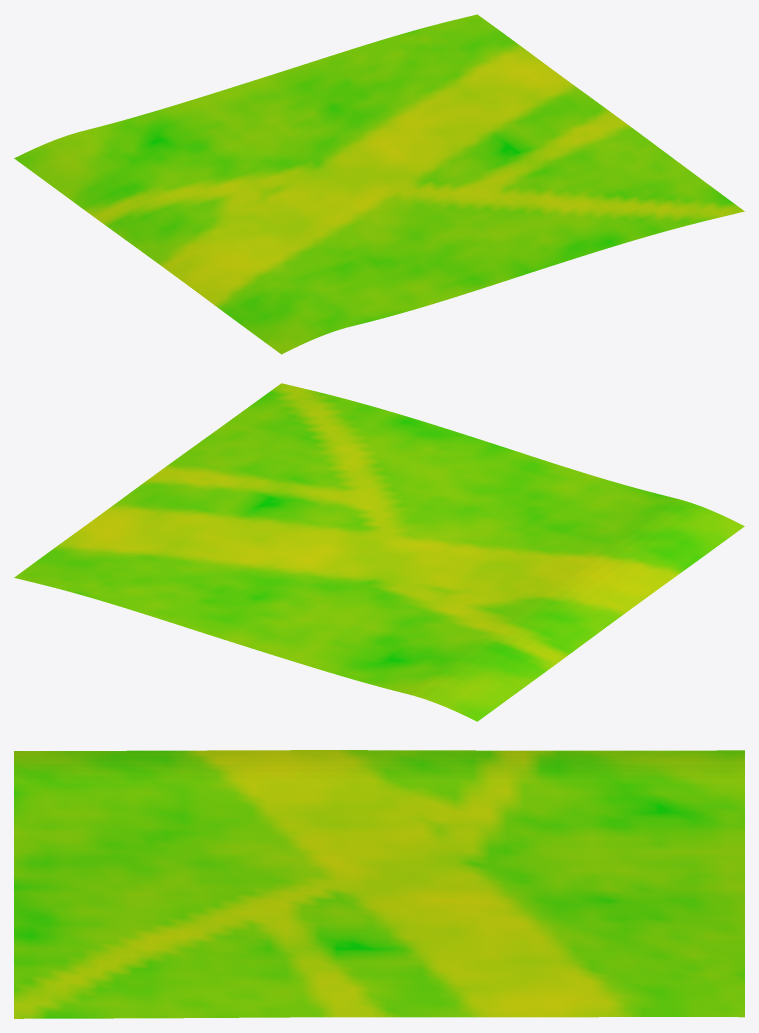
File: terrain_3_1.glb
3 views of the same model, one above another, from view 1: azimuth 30°, elevation 25°; view 2: azimuth 150°, elevation 25°; view 3: azimuth 270°, elevation 25° (orthographic). The views are drawn at different scales.
Parts seen in each view (by area): view 1: terrain_3_1; view 2: terrain_3_1; view 3: terrain_3_1.
Part boxes in pixels (left/top/right/bottom): terrain_3_1: left=14, top=14, right=744, bottom=354; terrain_3_1: left=14, top=383, right=744, bottom=721; terrain_3_1: left=14, top=750, right=744, bottom=1018.
Bounding box in the file's own units: 85 × 5.5 × 85.
